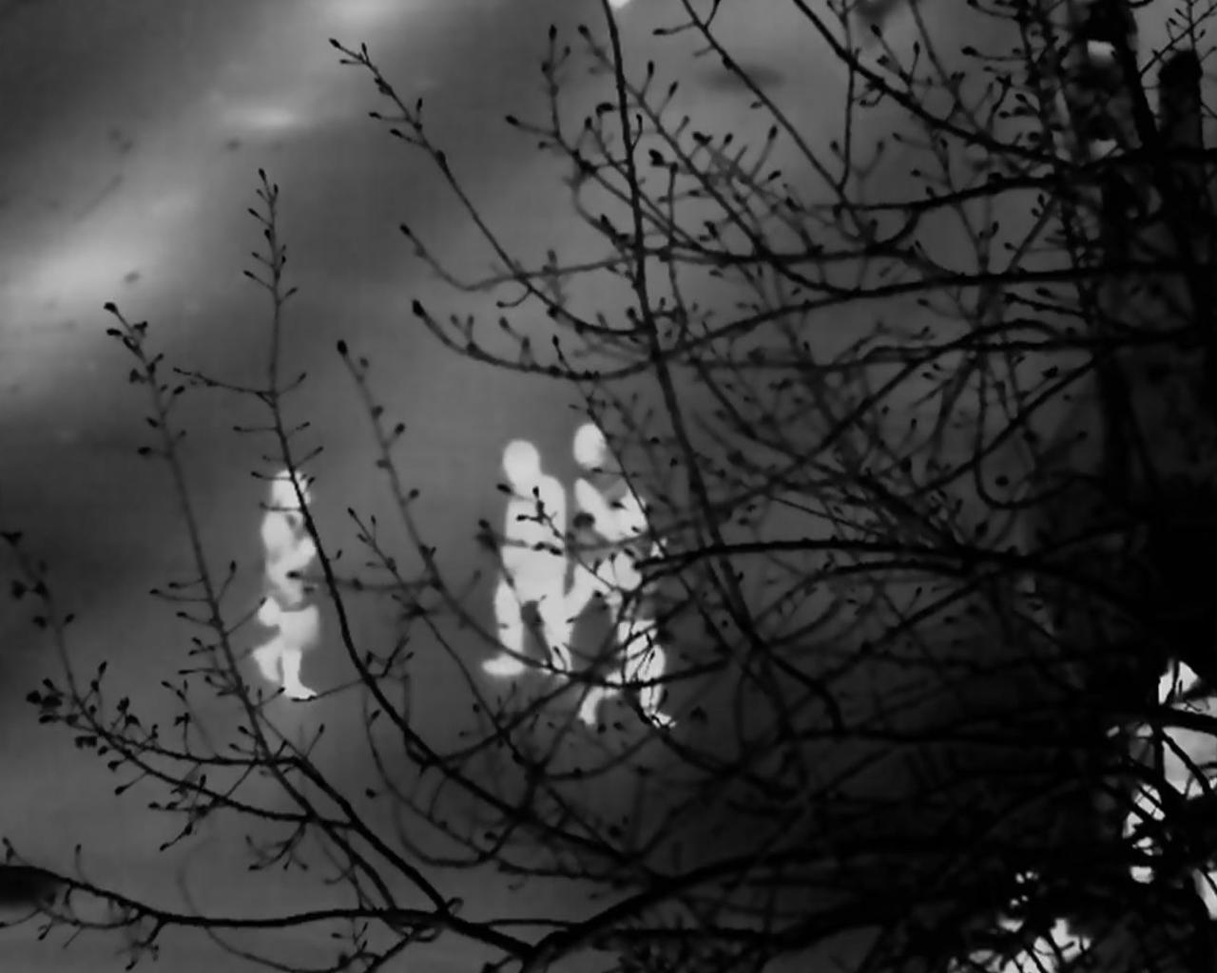person: (569, 429, 677, 711), (1120, 651, 1217, 887), (497, 419, 572, 666), (261, 471, 319, 677)
